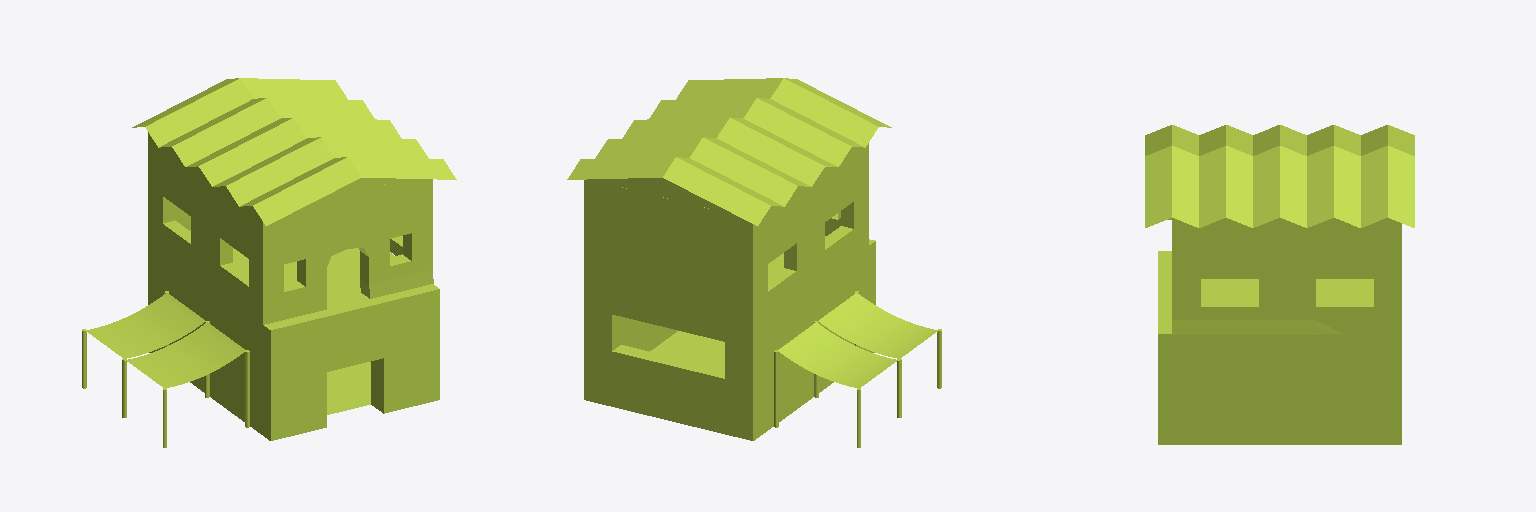
The model's file is house.obj.
3 views of the same model, side by side, from view 1: azimuth 30°, elevation 25°; view 2: azimuth 150°, elevation 25°; view 3: azimuth 270°, elevation 25° (orthographic).
Visible parts, largest first — view 1: Box001; view 2: Box001; view 3: Box001.
Boxes of the visible parts, x1,y1,x2,y2 form: Box001: [82, 78, 456, 447]; Box001: [567, 78, 941, 447]; Box001: [1145, 125, 1414, 444].
Size of the model in its own units: 63 by 58.22 by 55.